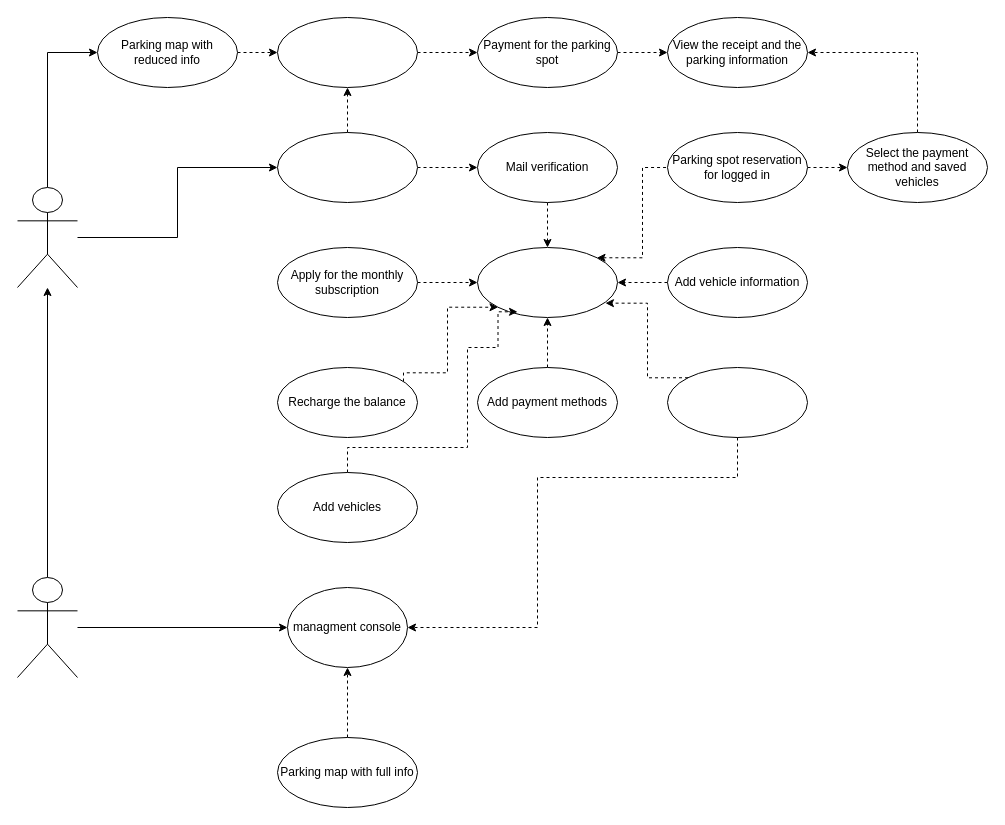
Some shapes in this 1005 by 825 pixel diagram are drawn without their labels. Each missing label, with the box of its shape:
Admin: (16, 576, 78, 678)
Parking spot reservation: (276, 16, 418, 88)
Register/login: (276, 132, 418, 202)
Transaction history: (666, 366, 808, 438)
User: (16, 186, 78, 288)
User page: (476, 246, 618, 318)
